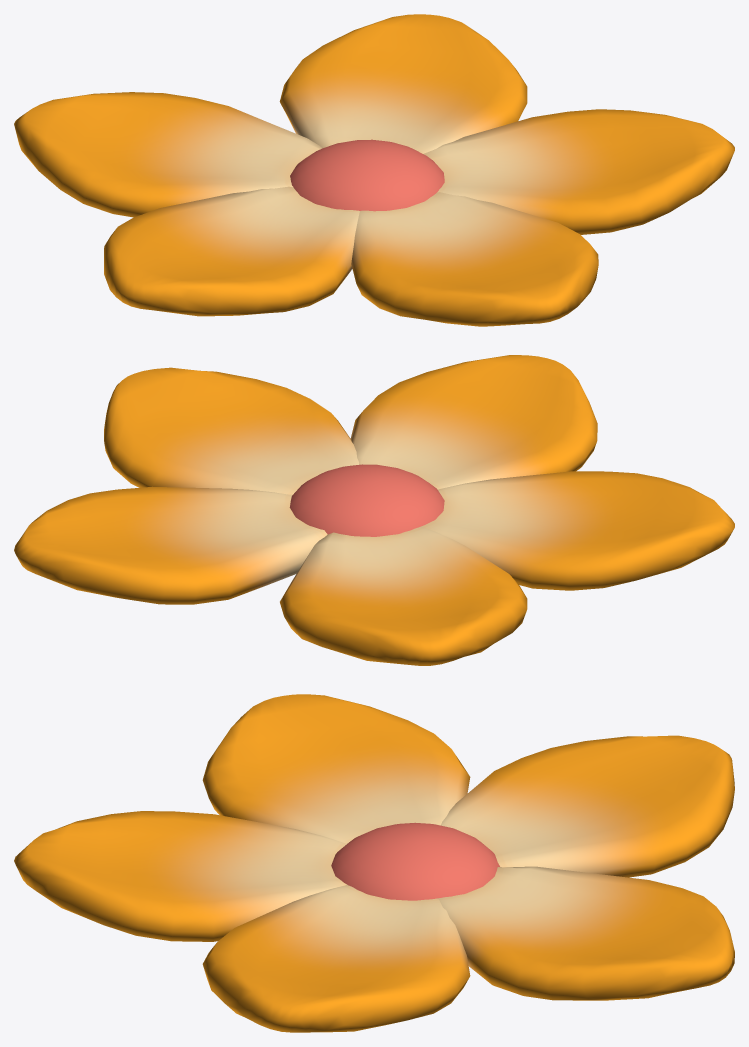
Rendered from hoa4.fbx.
The picture shows the model from 3 angles, top to bottom: view 1: azimuth 30°, elevation 25°; view 2: azimuth 150°, elevation 25°; view 3: azimuth 270°, elevation 25°; orthographic projection. The views are drawn at different scales.
Parts seen in each view (by area): view 1: polySurface29, polySurface89, polySurface88, polySurface25, polySurface30, polySurface26; view 2: polySurface30, polySurface88, polySurface89, polySurface29, polySurface25, polySurface26; view 3: polySurface89, polySurface25, polySurface30, polySurface29, polySurface88, polySurface26.
Boxes of the visible parts, x1,y1,x2,y2 form: polySurface29: [423, 109, 734, 234]; polySurface89: [14, 92, 322, 217]; polySurface88: [104, 186, 359, 316]; polySurface25: [351, 192, 598, 326]; polySurface30: [279, 14, 527, 153]; polySurface26: [290, 139, 444, 211]; polySurface30: [14, 486, 327, 604]; polySurface88: [422, 471, 734, 590]; polySurface89: [280, 526, 527, 665]; polySurface29: [104, 367, 359, 494]; polySurface25: [350, 355, 597, 489]; polySurface26: [289, 464, 444, 536]; polySurface89: [440, 735, 734, 877]; polySurface25: [14, 811, 346, 941]; polySurface30: [437, 866, 734, 1000]; polySurface29: [202, 884, 470, 1032]; polySurface88: [202, 694, 470, 843]; polySurface26: [331, 822, 499, 900].
Size of the model in its own units: 79.5 by 11.11 by 75.41.
1 material, 1 textured.
